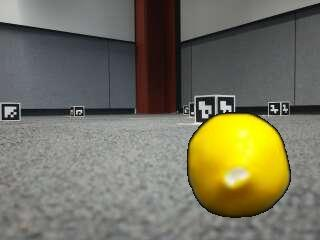lemon: (190, 115, 290, 219)
